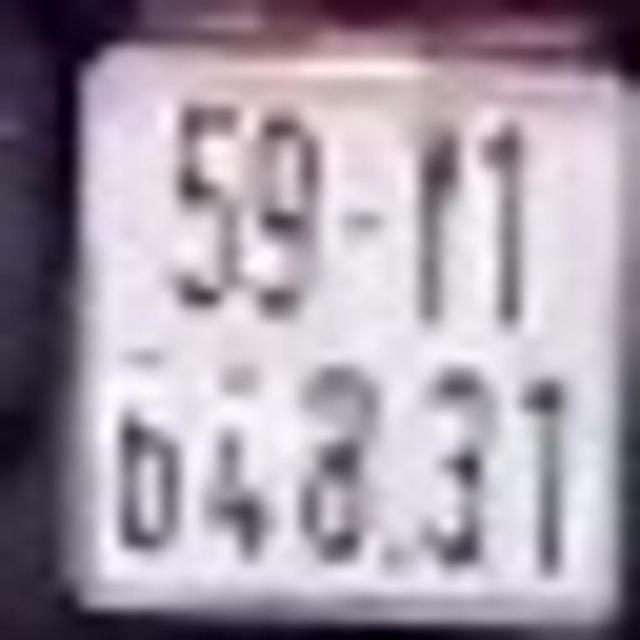1: (478, 126, 539, 332), (522, 380, 568, 574)
3: (416, 363, 490, 564)
4: (218, 368, 274, 562)
5: (179, 104, 247, 316)
6: (120, 348, 192, 552)
8: (296, 364, 378, 564)
9: (258, 123, 326, 324)
T: (389, 124, 470, 326)
